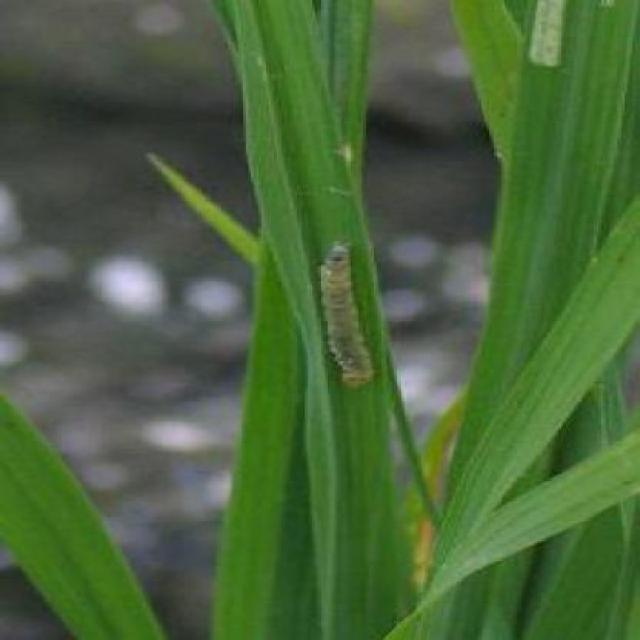leaf-folder: (299, 234, 403, 403)
